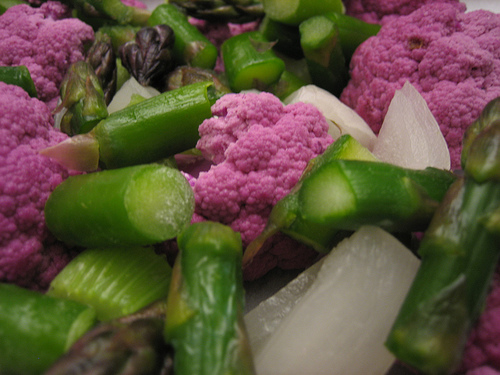cauliflower: (338, 6, 497, 167), (191, 86, 332, 231), (1, 86, 81, 289), (1, 1, 93, 100)
